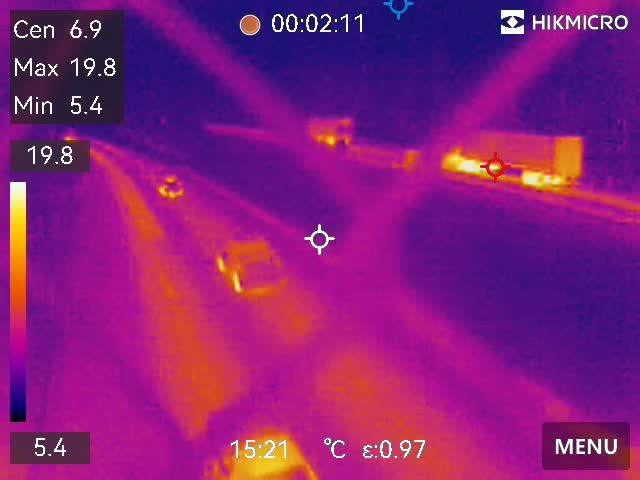heavyTruck: (449, 119, 588, 186), (302, 111, 358, 149)
